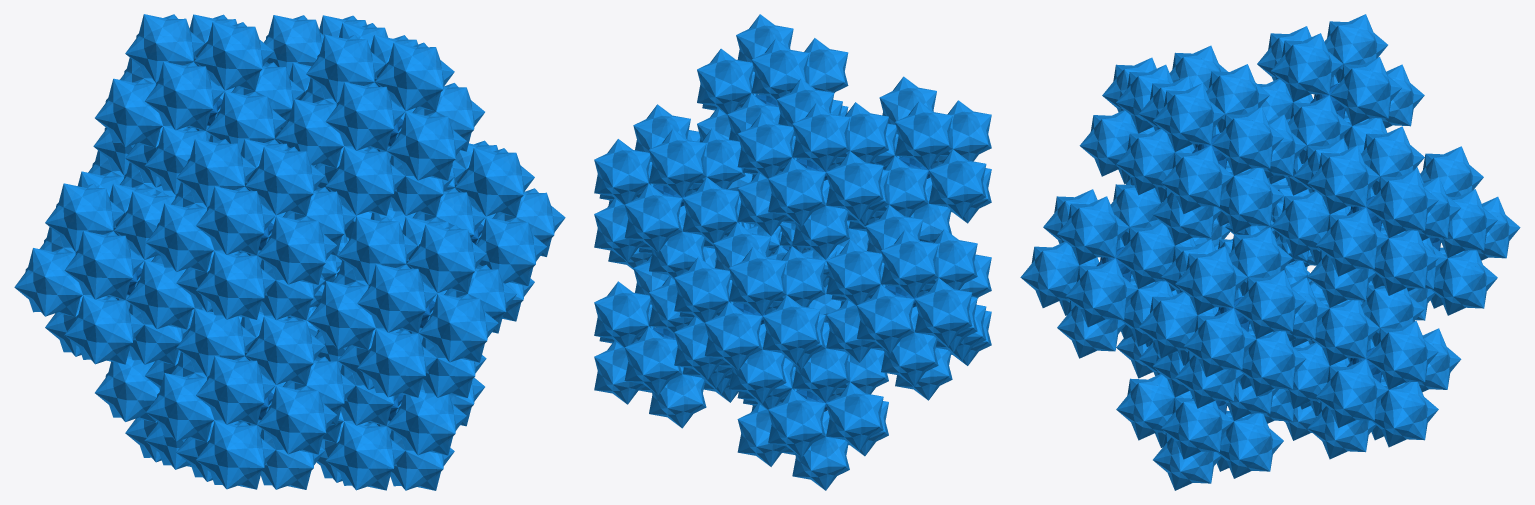
The model's file is fractalsmallrhombidodecacron2.glb.
3 renders of one model, left to right at view 1: azimuth 30°, elevation 25°; view 2: azimuth 150°, elevation 25°; view 3: azimuth 270°, elevation 25°, orthographic. The views are drawn at different scales.
Bounding box in the file's own units: 11.26 × 9.84 × 11.26.
